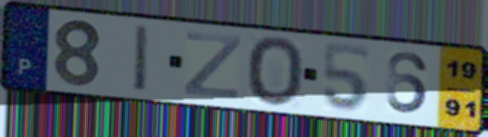5: (322, 39, 374, 115)
6: (386, 50, 431, 117)
8: (51, 17, 103, 89)
I: (133, 22, 152, 95)
O: (245, 34, 307, 109)
Z: (181, 29, 245, 102)
